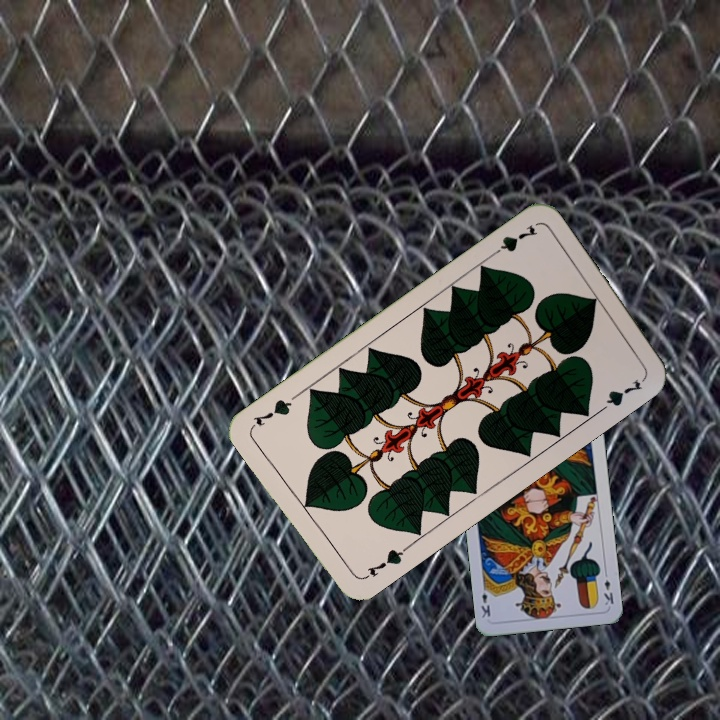EK: (600, 567, 616, 608)
G7: (486, 221, 540, 260), (358, 543, 410, 582)
